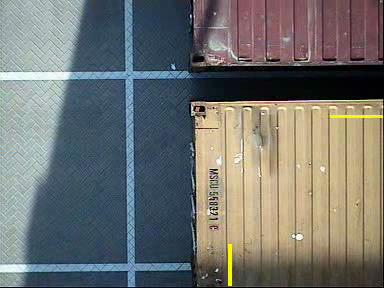groundmarker_2: (1, 32, 97, 116)
